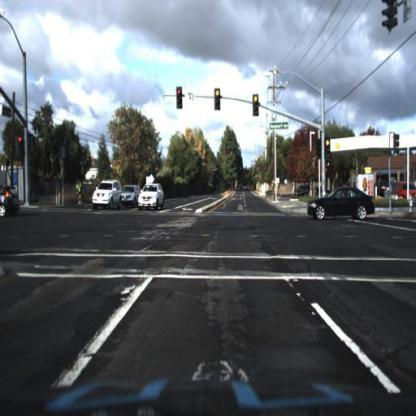biker: (74, 179, 85, 208)
car: (307, 184, 380, 226), (90, 177, 124, 214), (137, 183, 166, 213), (1, 183, 20, 216), (398, 177, 416, 200), (124, 184, 139, 208)
trafficLight-Red: (214, 88, 221, 109), (252, 95, 259, 111), (325, 138, 331, 151)
trafficLight-RedLeft: (16, 130, 26, 158), (176, 86, 185, 109)
